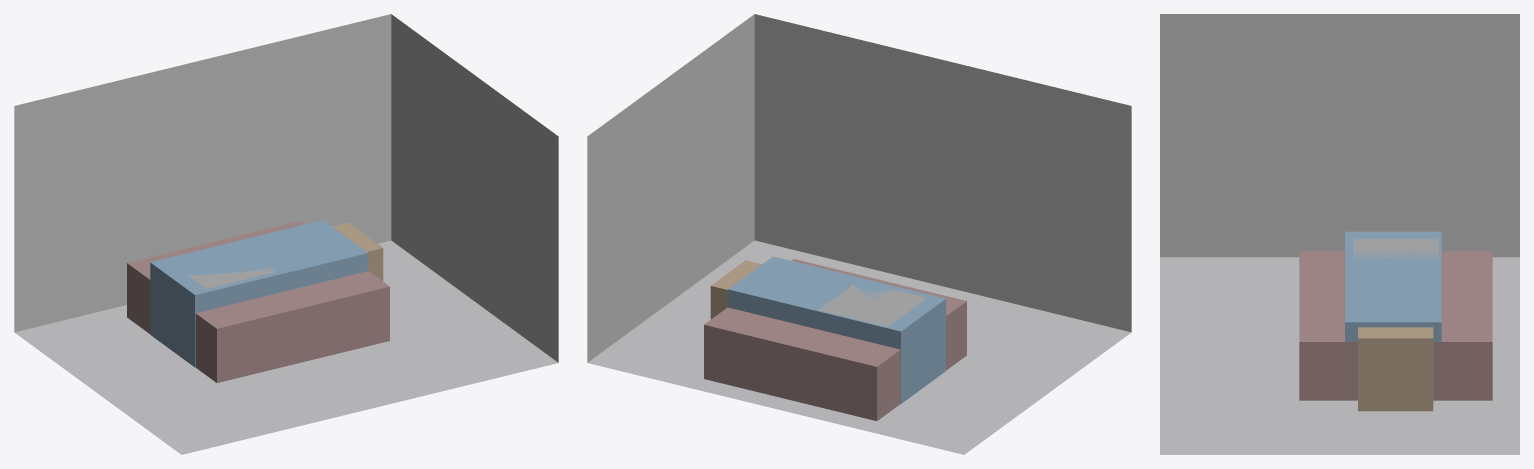
File: optimised_layout.glb
3 views of the same model, side by side, from view 1: azimuth 30°, elevation 25°; view 2: azimuth 150°, elevation 25°; view 3: azimuth 270°, elevation 25° (orthographic). The views are drawn at different scales.
Parts seen in each view (by area): view 1: room, bed, sofa, desk, dustbin; view 2: room, bed, sofa, dustbin, desk; view 3: room, bed, sofa, desk, dustbin.
Part boxes in pixels (x1,y1,x2,y2): room: (14,14,558,454); bed: (127,221,389,382); sofa: (150,220,368,367); desk: (332,222,383,281); dustbin: (188,264,274,288); room: (587,14,1131,454); bed: (704,259,966,420); sofa: (728,256,945,403); dustbin: (818,284,926,326); desk: (710,260,761,319); room: (1160,14,1519,454); bed: (1299,251,1492,400); sofa: (1345,231,1441,341); desk: (1358,327,1433,411); dustbin: (1353,239,1438,261).
Bounding box in the file's own units: 4.36 × 2.5 × 3.35.
